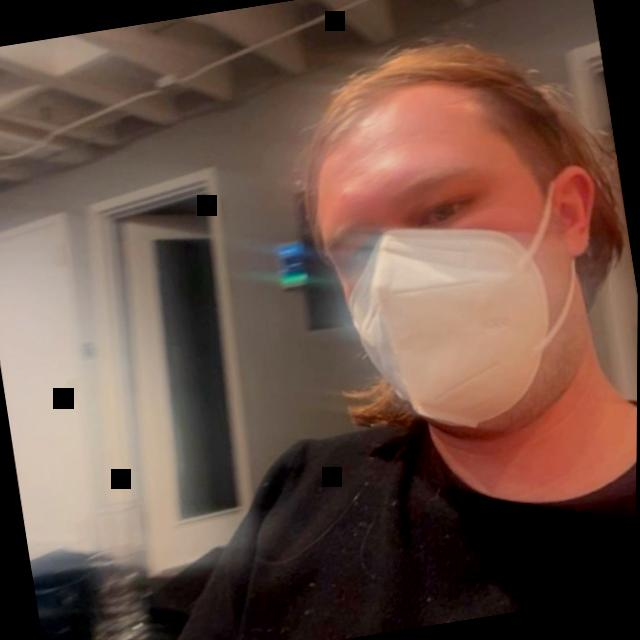Mask: (182, 0, 640, 551)
